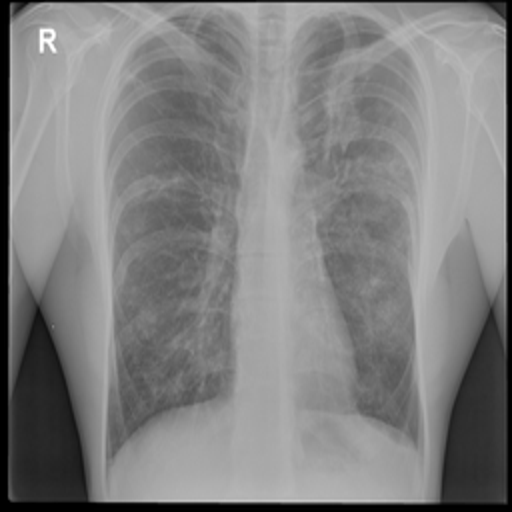TB: (311, 46, 417, 197)
